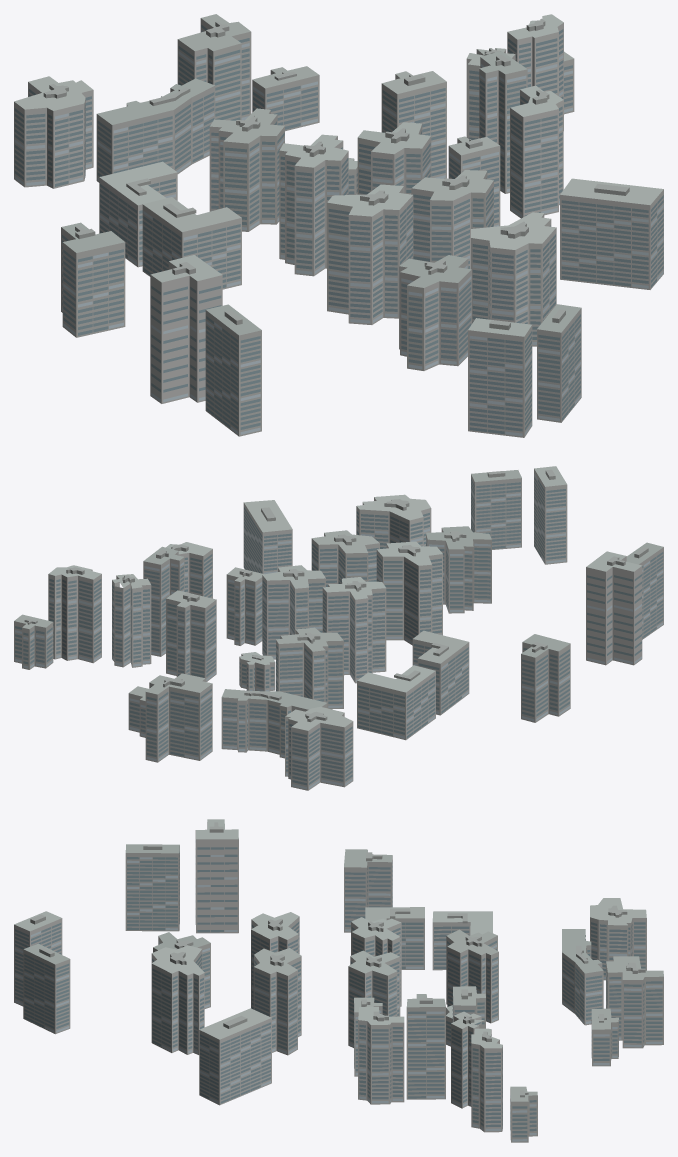
File: apt-a14272314.glb
3 views of the same model, one above another, from view 1: azimuth 30°, elevation 25°; view 2: azimuth 150°, elevation 25°; view 3: azimuth 270°, elevation 25° (orthographic). The views are drawn at different scales.
Parts seen in each view (by area): view 1: apt-a14272314; view 2: apt-a14272314; view 3: apt-a14272314.
Part boxes in pixels (x1=…): apt-a14272314: x1=14, y1=14, x2=663, y2=437; apt-a14272314: x1=14, y1=466, x2=663, y2=790; apt-a14272314: x1=14, y1=819, x2=663, y2=1142.
Bounding box in the file's own units: 344 × 68 × 412.
